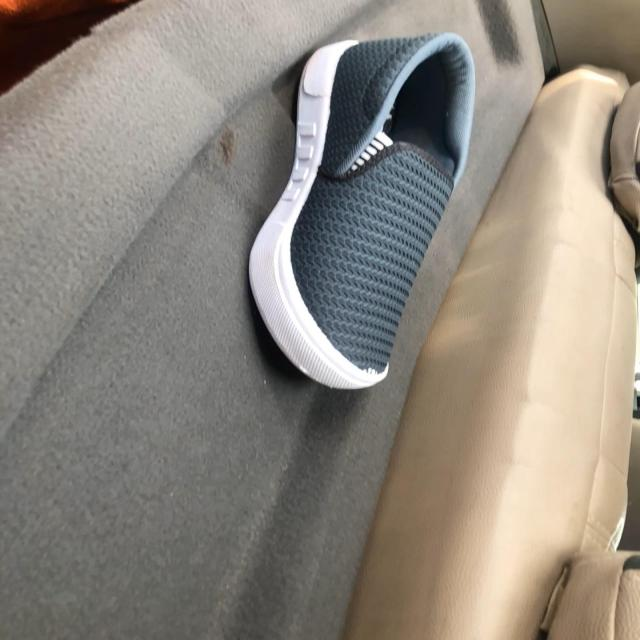shoe: (248, 32, 477, 392)
